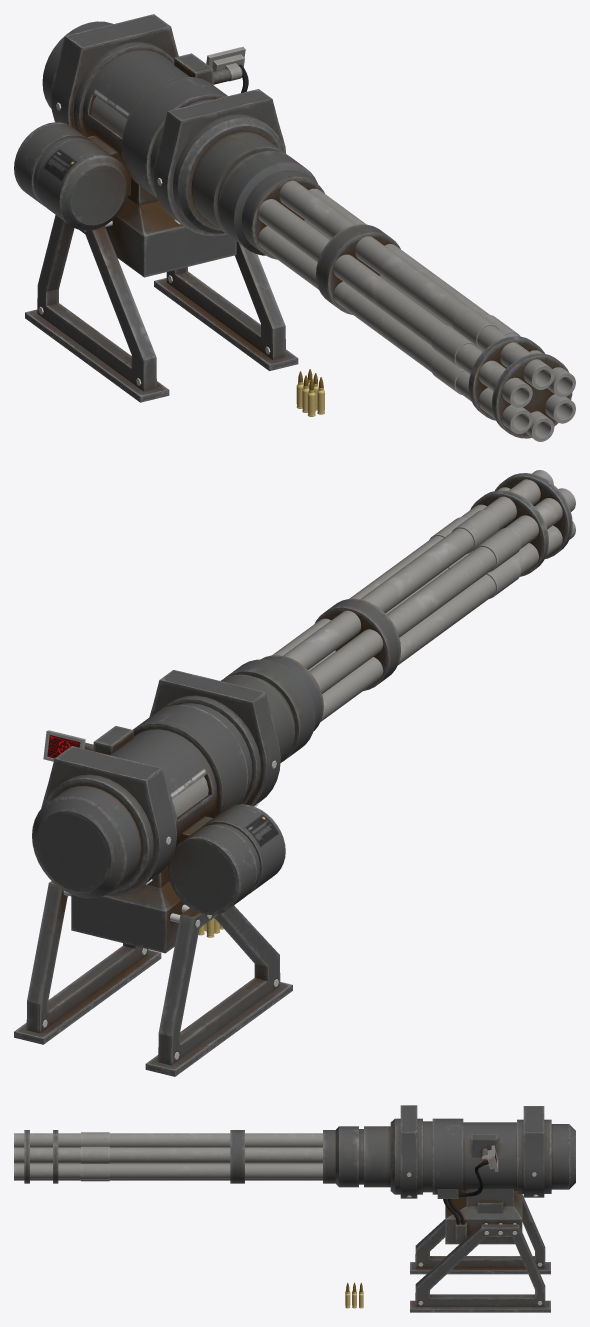
File: big-block.glb
The picture shows the model from 3 angles, top to bottom: view 1: azimuth 30°, elevation 25°; view 2: azimuth 150°, elevation 25°; view 3: azimuth 270°, elevation 25°; orthographic projection. The views are drawn at different scales.
Visible parts, largest first — view 1: Support2Model_Metal2_0, MainBodyModel_Metal4_0, Barrel3Model_Metal1_0, Bullet1Model_Gold_0; view 2: Support2Model_Metal2_0, MainBodyModel_Metal4_0, Barrel3Model_Metal1_0; view 3: Support2Model_Metal2_0, MainBodyModel_Metal4_0, Barrel3Model_Metal1_0, Wire1Model_Rubber_0, Bullet1Model_Gold_0.
Boxes of the visible parts, x1=… form: Support2Model_Metal2_0: x1=14, y1=21, x2=572, y2=438; MainBodyModel_Metal4_0: x1=50, y1=14, x2=285, y2=277; Barrel3Model_Metal1_0: x1=91, y1=46, x2=575, y2=441; Bullet1Model_Gold_0: x1=296, y1=378, x2=324, y2=416; Support2Model_Metal2_0: x1=14, y1=473, x2=572, y2=1076; MainBodyModel_Metal4_0: x1=41, y1=670, x2=280, y2=953; Barrel3Model_Metal1_0: x1=43, y1=470, x2=575, y2=817; Support2Model_Metal2_0: x1=24, y1=1124, x2=575, y2=1312; MainBodyModel_Metal4_0: x1=390, y1=1105, x2=551, y2=1244; Barrel3Model_Metal1_0: x1=14, y1=1132, x2=498, y2=1181; Wire1Model_Rubber_0: x1=443, y1=1161, x2=488, y2=1224; Bullet1Model_Gold_0: x1=345, y1=1288, x2=363, y2=1308.
Bounding box in the file's own units: 0.3277 × 0.425 × 1.25.
Materials: 8 (7 with a texture image).
